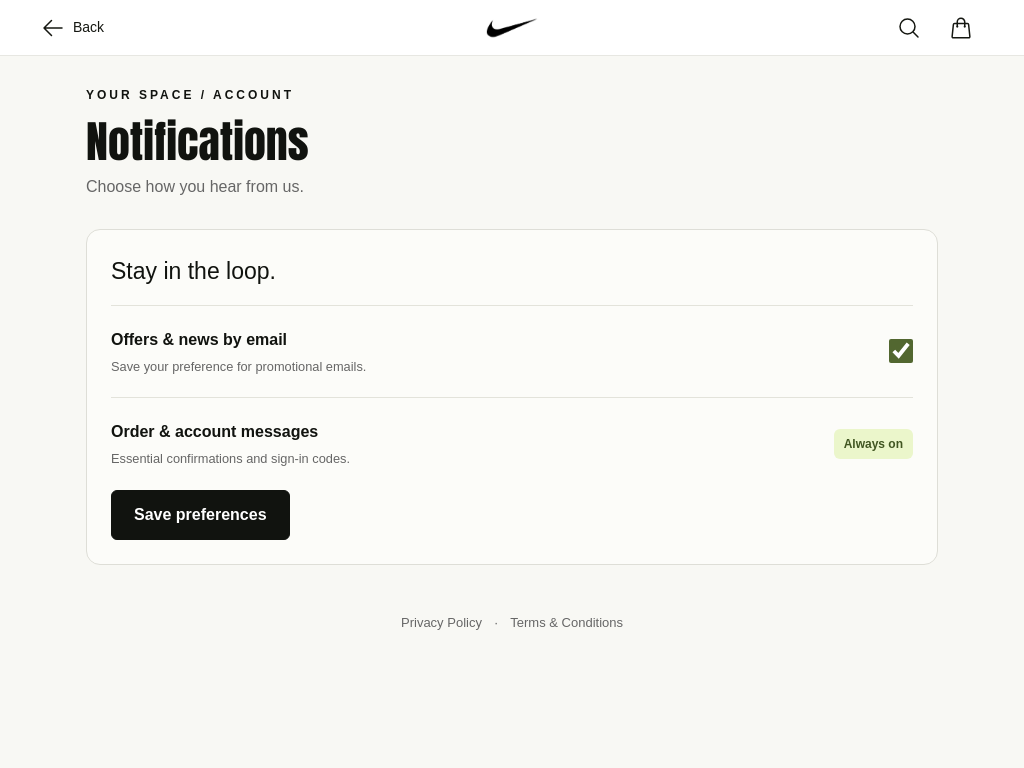
Test case: notifications saves a persisted boolean and reports API failure
Click the checkbox at [901, 352], box [889, 340, 913, 364]
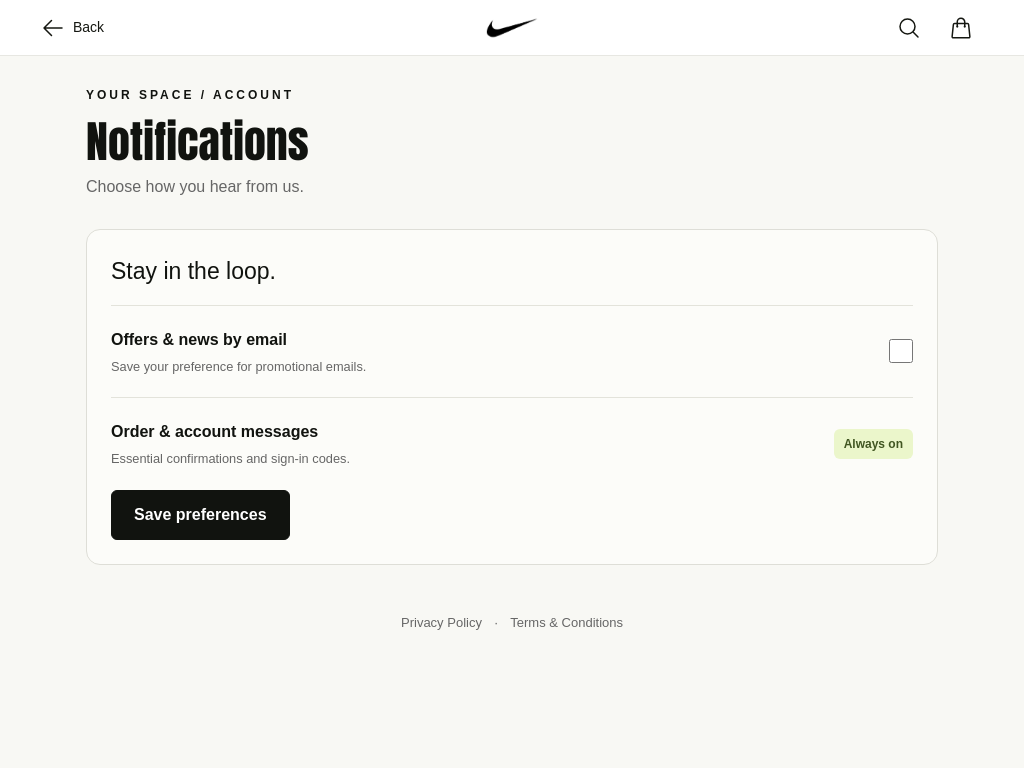
Submit the form, box [86, 229, 938, 565]
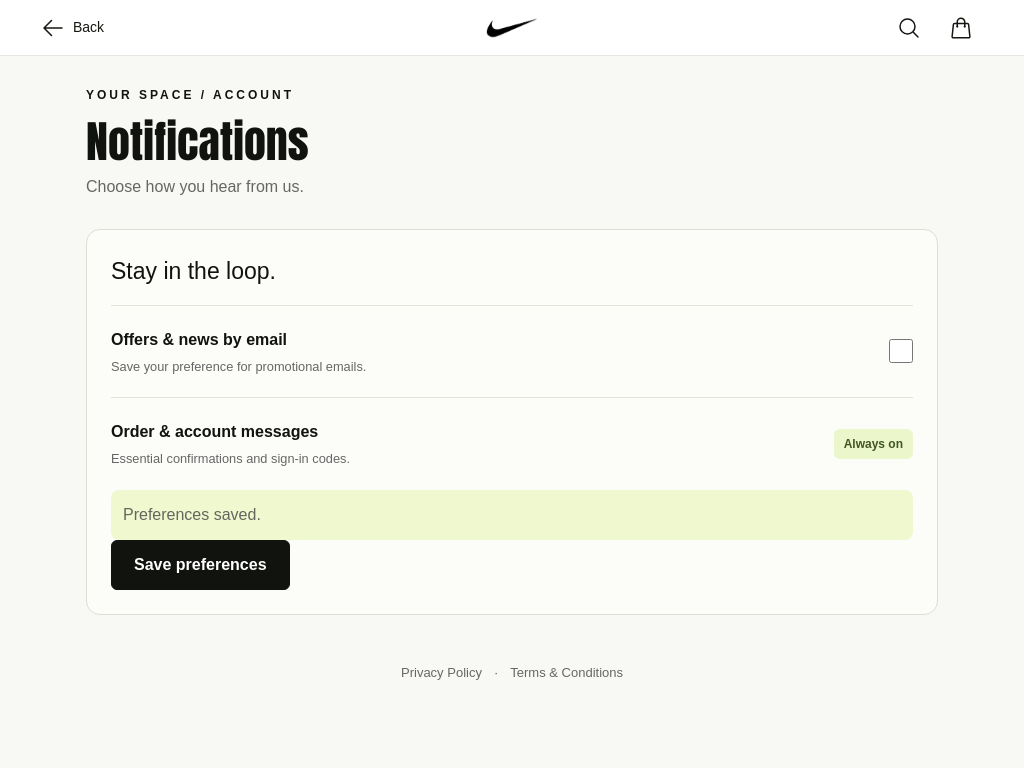
Result: the message "Preferences saved." is shown at [111, 490, 913, 540]
Submit the form, box [86, 229, 938, 615]
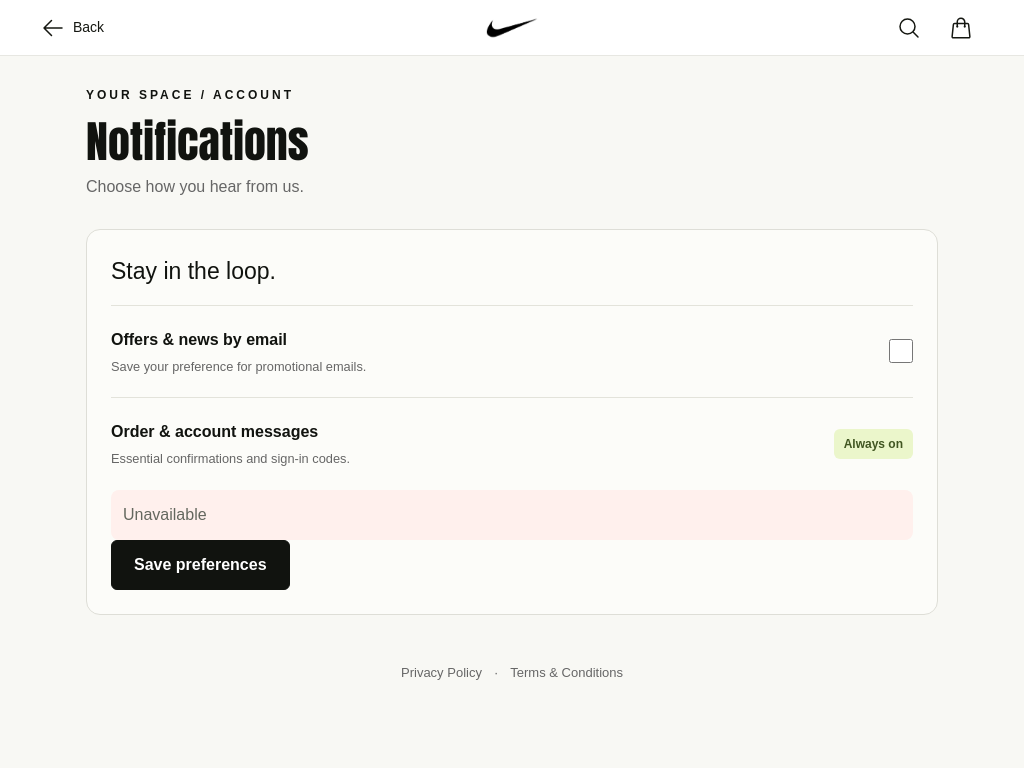
Result: the message "Unavailable" is shown at [111, 490, 913, 540]
